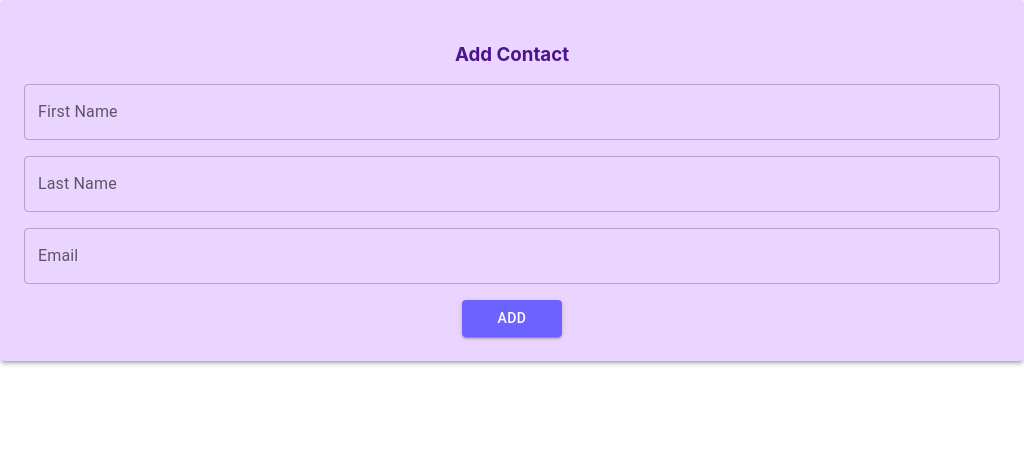
Test case: AddContacts component › shows validation errors when fields are empty
The width and height of the screenshot is (1024, 452).
Step 1. Click the button "Add" → [512, 319], box x1=462 y1=300 x2=562 y2=337
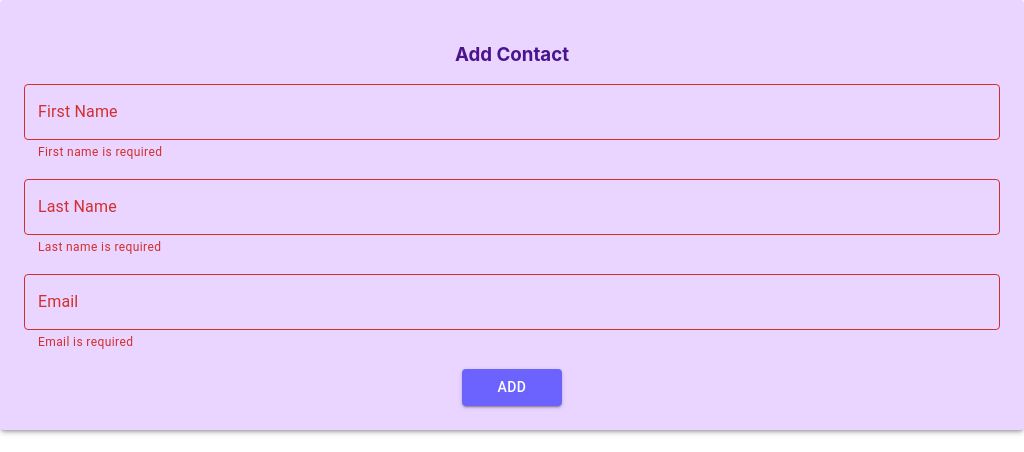
expect the text "First name is required" is shown: met, box x1=38 y1=145 x2=162 y2=159
expect the text "Last name is required" is shown: met, box x1=38 y1=240 x2=161 y2=254
expect the text "Email is required" is shown: met, box x1=38 y1=335 x2=133 y2=349
